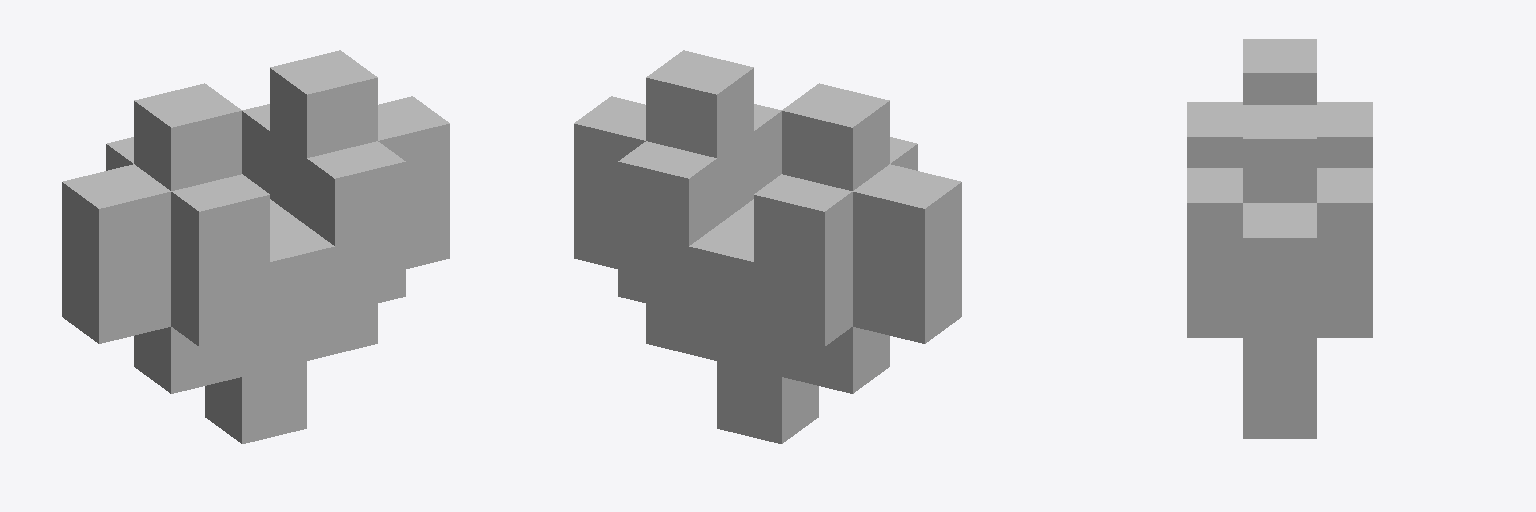
The model's file is Heart.obj.
3 views of the same model, side by side, from view 1: azimuth 30°, elevation 25°; view 2: azimuth 150°, elevation 25°; view 3: azimuth 270°, elevation 25° (orthographic).
Visible parts, largest first — view 1: Cube; view 2: Cube; view 3: Cube.
Boxes of the visible parts, x1=… form: Cube: x1=62, y1=50, x2=449, y2=443; Cube: x1=574, y1=50, x2=961, y2=443; Cube: x1=1187, y1=39, x2=1372, y2=438.
Bounding box in the file's own units: 1.36 × 1.24 × 0.625.